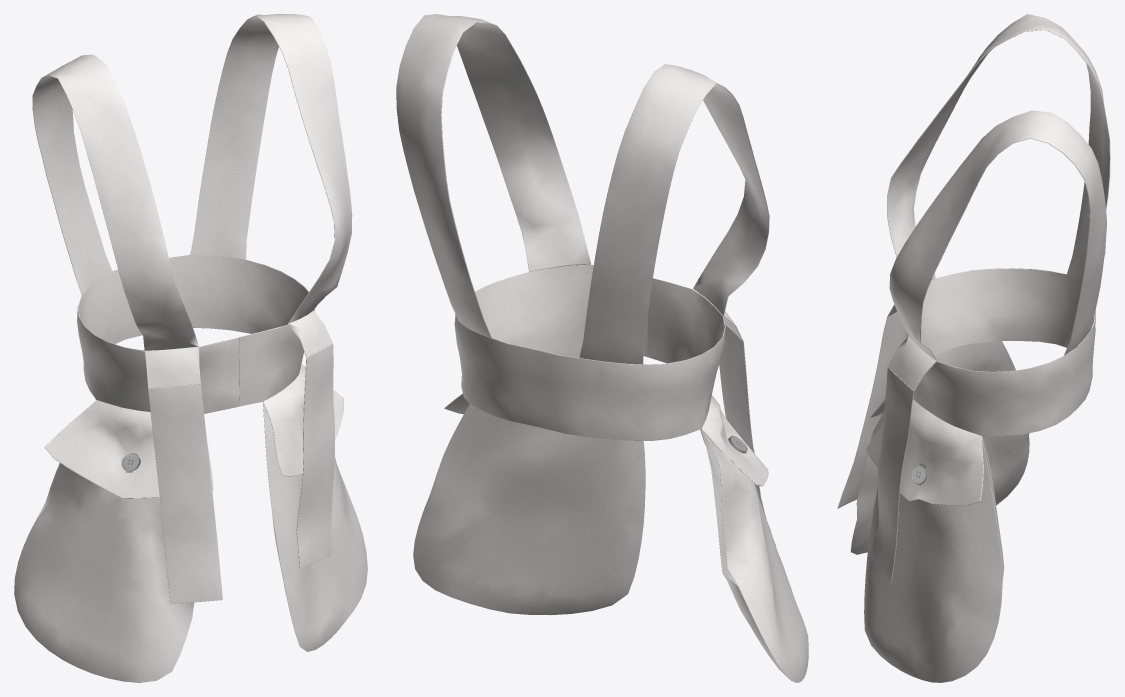
File: utilitypocketstrap.fbx
3 views of the same model, side by side, from view 1: azimuth 30°, elevation 25°; view 2: azimuth 150°, elevation 25°; view 3: azimuth 270°, elevation 25° (orthographic). The views are drawn at different scales.
Parts seen in each view (by area): view 1: Pattern2D_41203, Pattern2D_41202 (×2), Pattern2D_41148 (×2), Pattern2D_8058 (×2), Pattern2D_41191, Pattern2D_41204, Pattern2D_57888, Pattern2D_41137, Pattern2D_57889; view 2: Pattern2D_39372, Pattern2D_8058 (×2), Pattern2D_41148 (×2), Pattern2D_41202 (×2), Pattern2D_41203, Pattern2D_41191, Pattern2D_57888, Pattern2D_39371; view 3: Pattern2D_8058 (×2), Pattern2D_41204, Pattern2D_41148 (×2), Pattern2D_41202 (×2), Pattern2D_57889, Pattern2D_39371, Pattern2D_41137, Pattern2D_41191.
Boxes of the visible parts, left/top/right/bottom form: Pattern2D_41203: left=14, top=463, right=193, bottom=682; Pattern2D_41202 (×2): left=32, top=54, right=200, bottom=388; Pattern2D_41148 (×2): left=190, top=14, right=352, bottom=357; Pattern2D_8058 (×2): left=77, top=254, right=314, bottom=413; Pattern2D_41191: left=148, top=384, right=222, bottom=604; Pattern2D_41204: left=263, top=402, right=367, bottom=651; Pattern2D_57888: left=44, top=400, right=213, bottom=498; Pattern2D_41137: left=296, top=344, right=334, bottom=567; Pattern2D_57889: left=263, top=364, right=343, bottom=476; Pattern2D_39372: left=413, top=350, right=645, bottom=615; Pattern2D_8058 (×2): left=454, top=264, right=725, bottom=440; Pattern2D_41148 (×2): left=396, top=14, right=590, bottom=337; Pattern2D_41202 (×2): left=579, top=64, right=769, bottom=364; Pattern2D_41203: left=702, top=429, right=808, bottom=682; Pattern2D_41191: left=719, top=325, right=764, bottom=514; Pattern2D_57888: left=701, top=395, right=768, bottom=485; Pattern2D_39371: left=700, top=429, right=801, bottom=682; Pattern2D_8058 (×2): left=906, top=268, right=1095, bottom=436; Pattern2D_41204: left=864, top=437, right=1002, bottom=682; Pattern2D_41148 (×2): left=888, top=110, right=1106, bottom=390; Pattern2D_41202 (×2): left=887, top=14, right=1110, bottom=316; Pattern2D_57889: left=865, top=399, right=983, bottom=505; Pattern2D_39371: left=851, top=340, right=1029, bottom=554; Pattern2D_41137: left=870, top=367, right=913, bottom=582; Pattern2D_41191: left=838, top=312, right=906, bottom=508.
Size of the model in its own units: 39.99 by 65.12 by 28.66.
